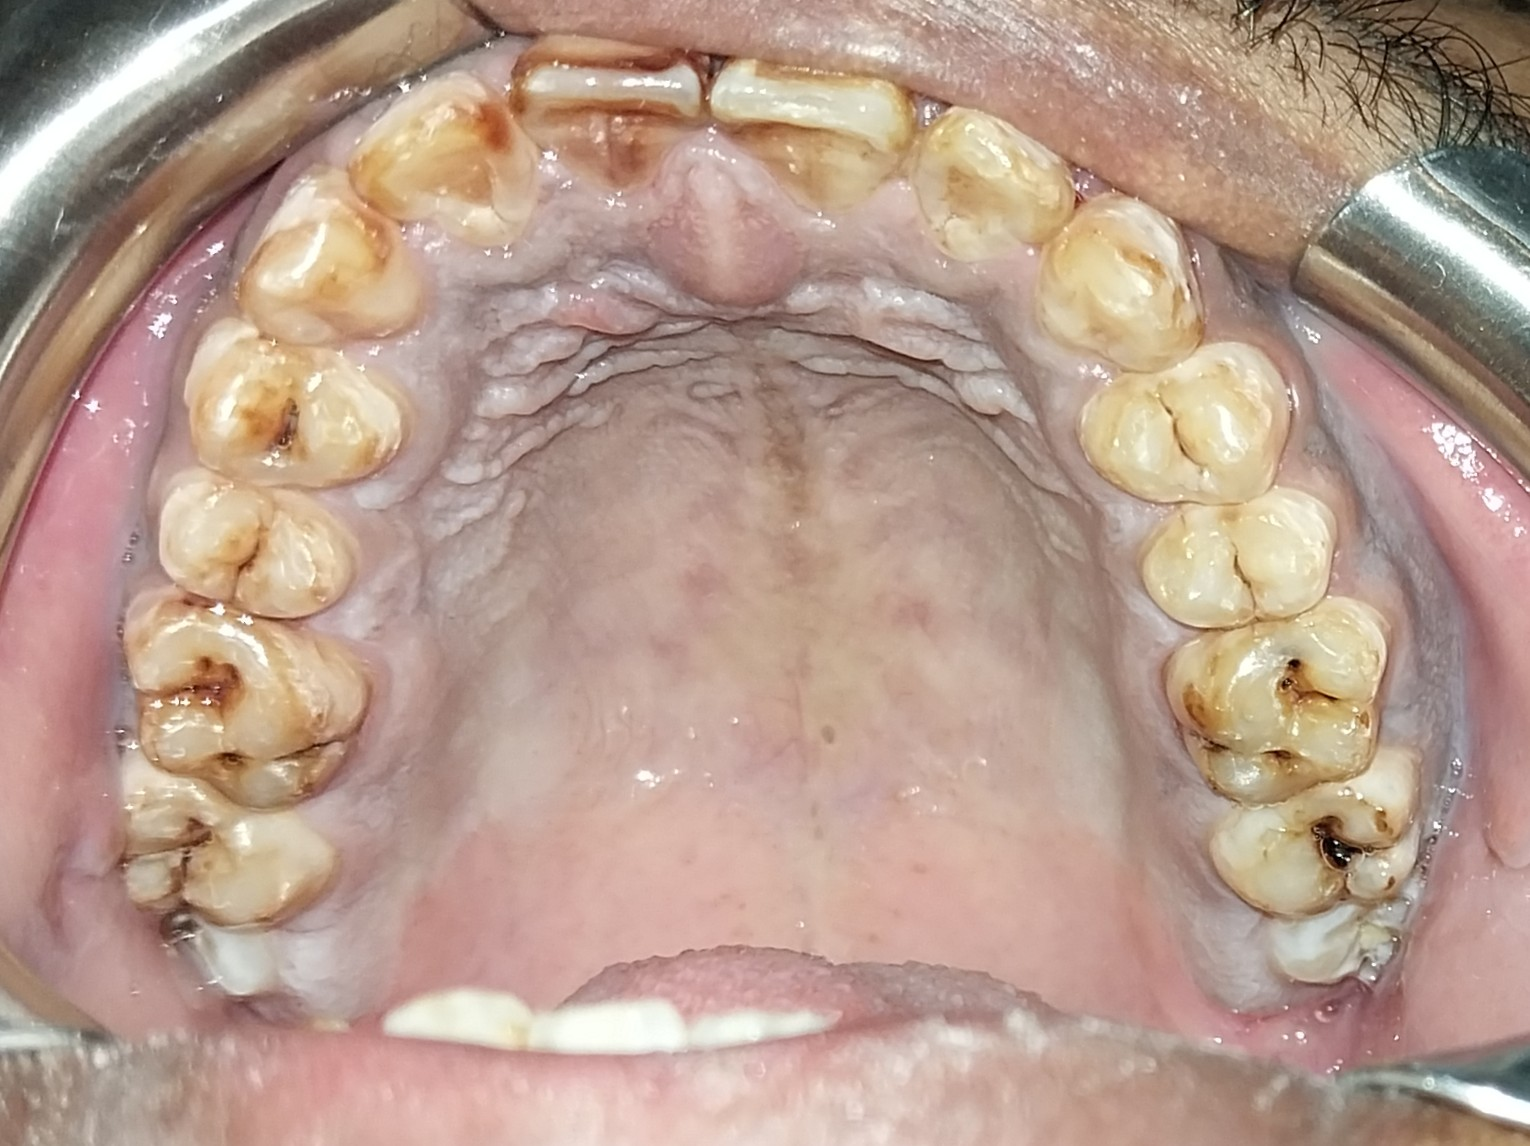D: (101, 584, 371, 808), (1165, 598, 1397, 806), (97, 754, 341, 934), (1201, 747, 1442, 924), (175, 318, 403, 496), (1075, 339, 1294, 498), (149, 472, 362, 617), (1140, 487, 1333, 628)
